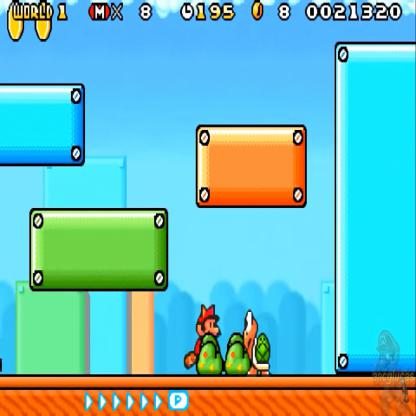Mario: (183, 304, 221, 369)
koopa: (243, 307, 270, 377)
moneda: (3, 0, 24, 45), (37, 19, 49, 46)
